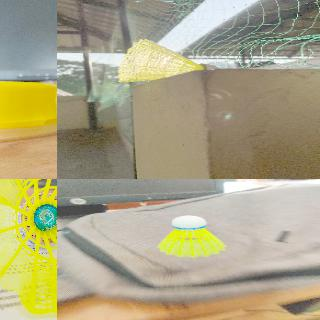shuttlecock: (0, 179, 56, 319), (117, 38, 216, 82), (156, 215, 228, 258)
